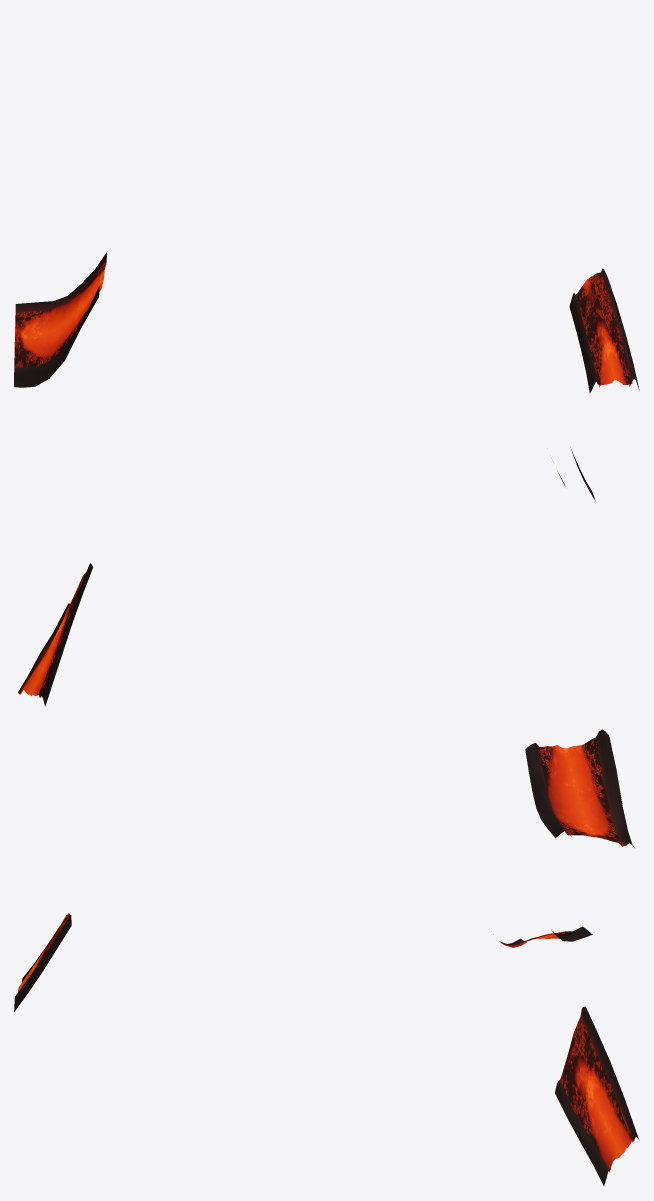
File: lava_seg_3.glb
3 views of the same model, one above another, from view 1: azimuth 30°, elevation 25°; view 2: azimuth 150°, elevation 25°; view 3: azimuth 270°, elevation 25° (orthographic). The views are drawn at different scales.
Parts seen in each view (by area): view 1: seg; view 2: seg; view 3: seg.
Boxes of the visible parts, <box> form: seg: <box>14,251,639,393</box>; seg: <box>18,447,634,847</box>; seg: <box>14,913,639,1185</box>.
Bounding box in the file's own units: 59.96 × 19 × 56.18.
